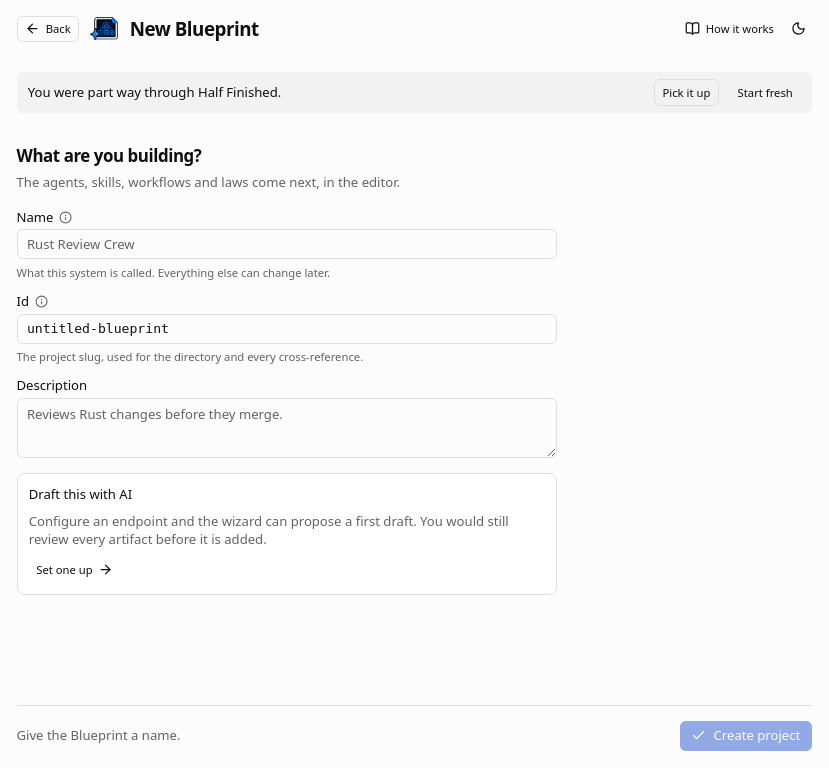
Test: New Blueprint › can be told to start fresh instead
This screenshot has width=829, height=768.
Expected: the text "You were part way through Half Finished." is shown, [28,83,281,101]
Click the button "Start fresh" at point(765, 92), box [730,79,800,106]
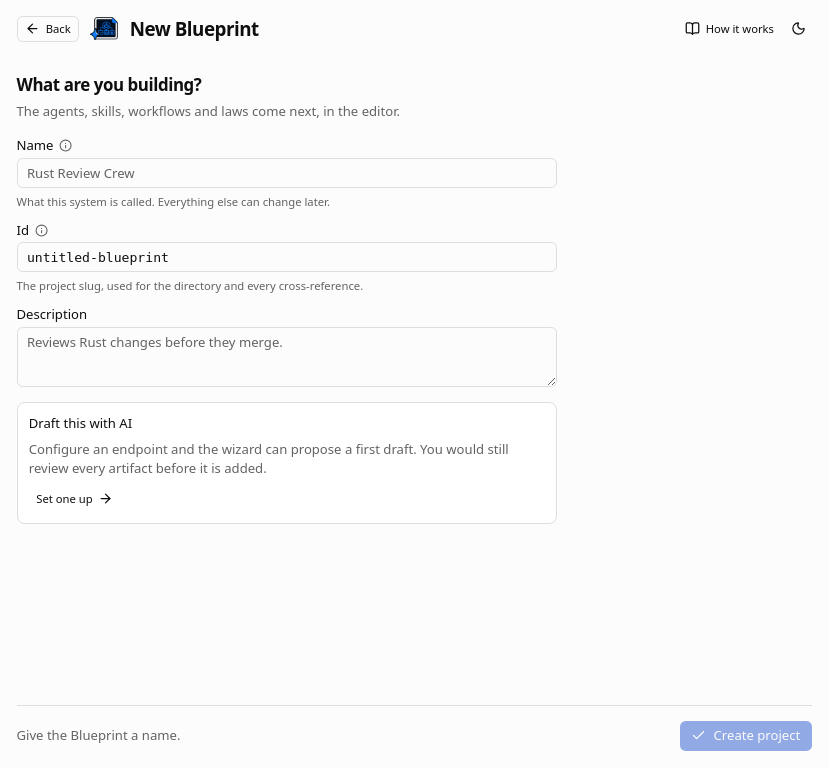
Expected: the field labelled "Name" is empty, [16,158,556,188]
Expected: the text "part way through" is gone
